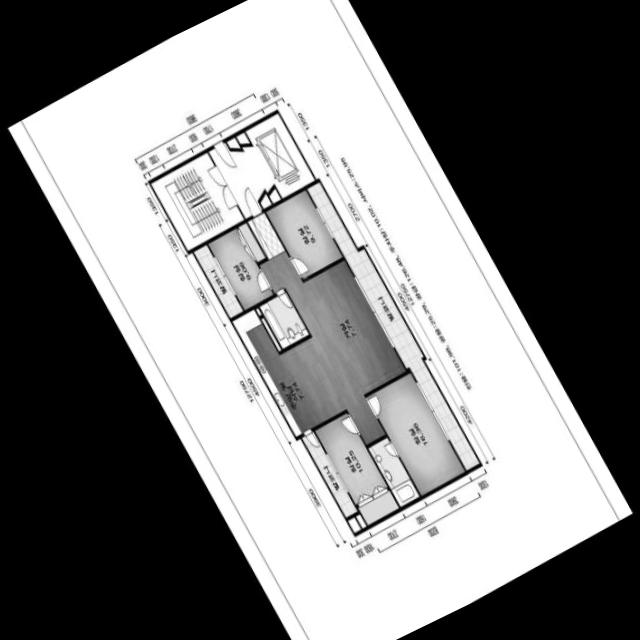background: (8, 0, 632, 640)
space_balconi: (306, 181, 479, 469), (301, 430, 357, 517), (193, 244, 243, 317)
space_bedroom: (366, 372, 465, 495), (314, 412, 399, 524), (265, 189, 342, 278), (207, 221, 273, 309)
space_elevator: (245, 112, 315, 198)
space_elevator_hall: (208, 141, 274, 218)
space_front: (247, 211, 285, 259)
space_kitchen: (232, 308, 346, 436)
space_living_room: (259, 250, 406, 444)
space_other: (261, 317, 281, 351), (347, 516, 361, 532), (260, 192, 272, 208), (269, 187, 281, 203), (235, 131, 250, 143), (355, 513, 366, 528), (226, 136, 241, 147), (255, 306, 261, 315)
space_staircase: (150, 152, 244, 250)
space_toilet: (368, 437, 419, 506), (258, 291, 309, 348)
